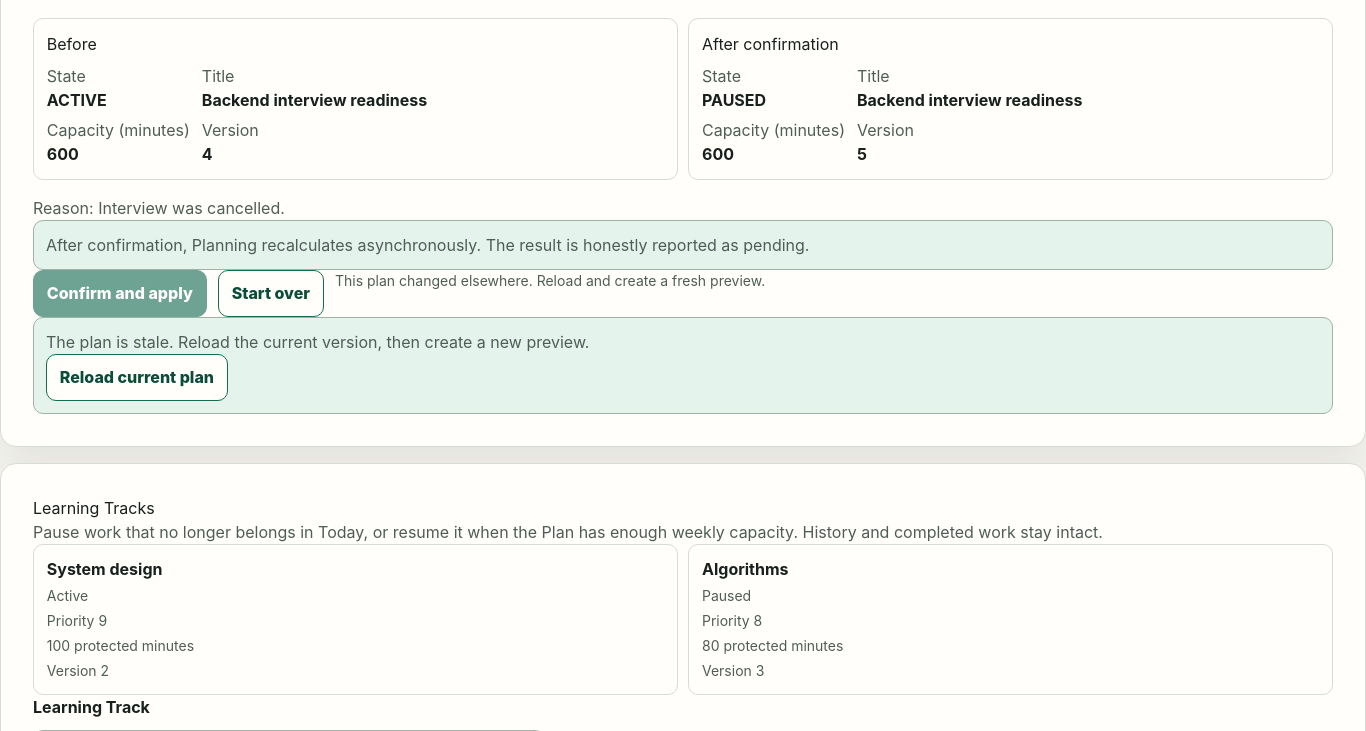
Test case: PlanWorkspace › offers an explicit stale-plan reload and clears the old preview
(page scrolled)
Click the button "Reload current plan" at (137, 377), box [46,354,228,401]
(page scrolled)
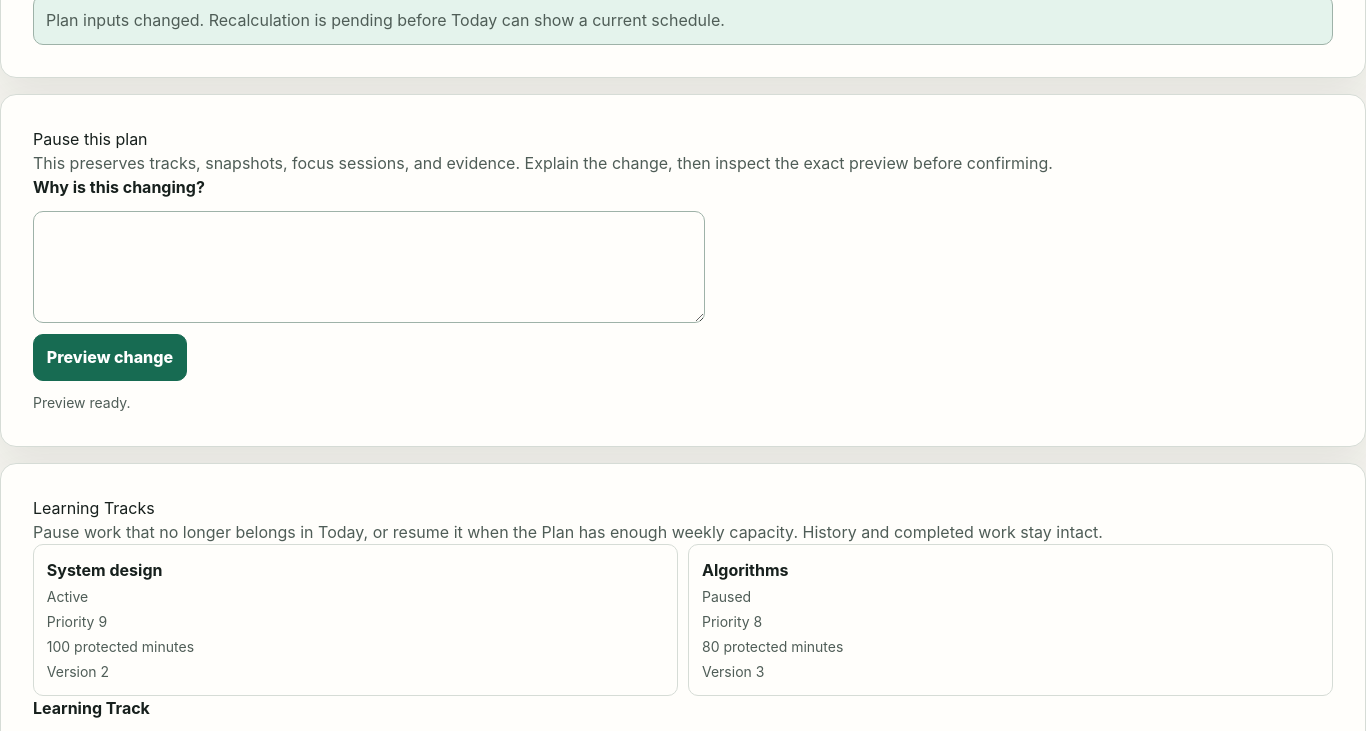
expect the button "Confirm and apply" is gone: met
